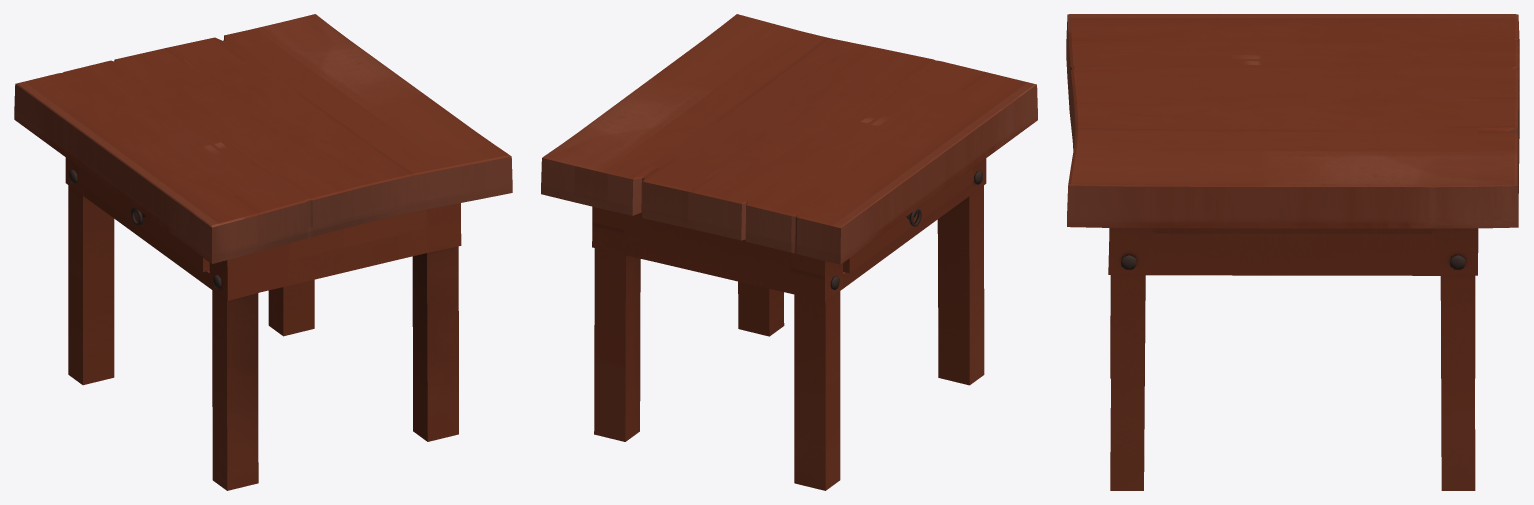
File: Small side table2.fbx
3 renders of one model, left to right at view 1: azimuth 30°, elevation 25°; view 2: azimuth 150°, elevation 25°; view 3: azimuth 270°, elevation 25°, orthographic. The views are drawn at different scales.
Parts seen in each view (by area): view 1: Bolt.008; view 2: Bolt.008; view 3: Bolt.008.
Part boxes in pixels (x1,y1,x2,y2): Bolt.008: [14, 14, 512, 490]; Bolt.008: [541, 14, 1037, 490]; Bolt.008: [1066, 14, 1519, 490].
Bounding box in the file's own units: 164 × 149 × 186.
